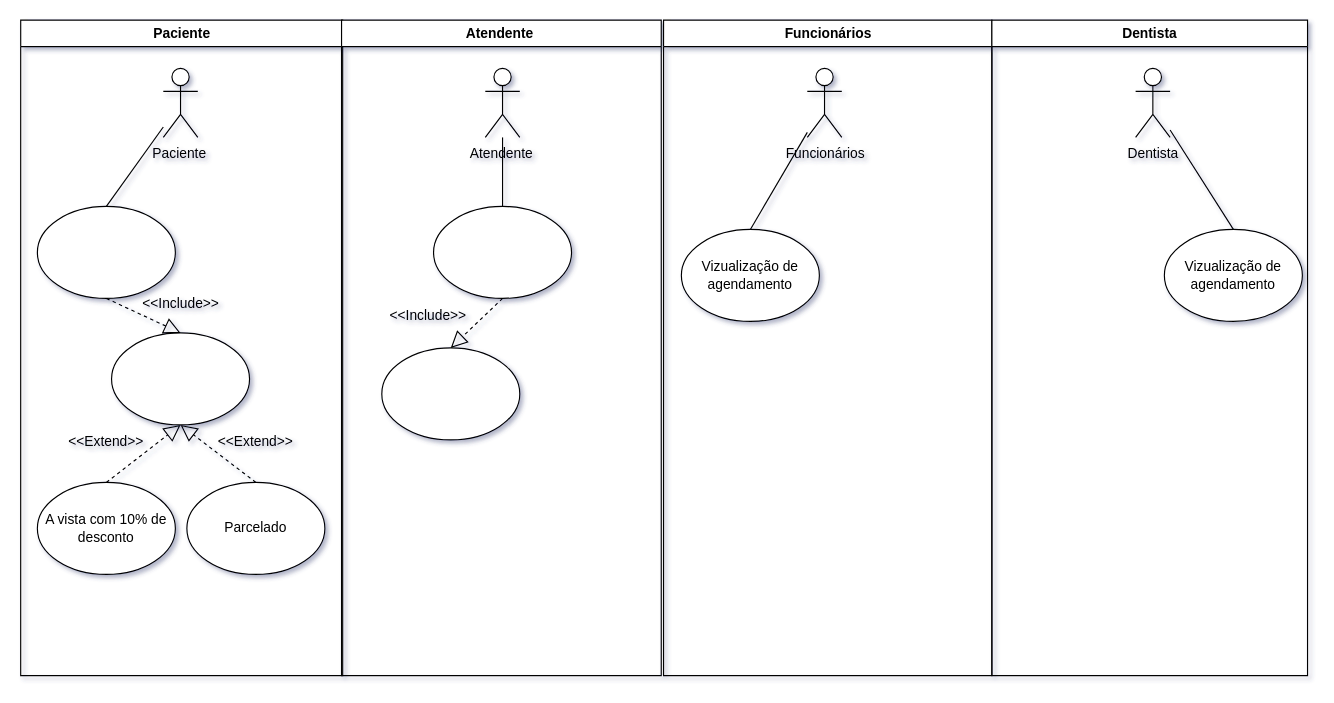
Some shapes in this 1334 by 703 pixel diagram are drawn without their labels. Each missing label, with the box of its shape:
Cancelamento ou alteração: (381, 347, 520, 440)
Marcar a consulta do paciente: (432, 205, 572, 298)
Marcar consulta e vizualiação online: (36, 205, 175, 298)
Uma ou mais consultas: (110, 332, 250, 425)
